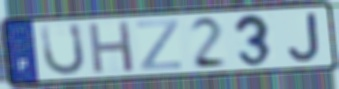2: (185, 16, 228, 70)
3: (233, 11, 279, 70)
H: (86, 19, 137, 76)
J: (286, 11, 323, 64)
U: (39, 21, 88, 78)
Z: (136, 17, 184, 72)
